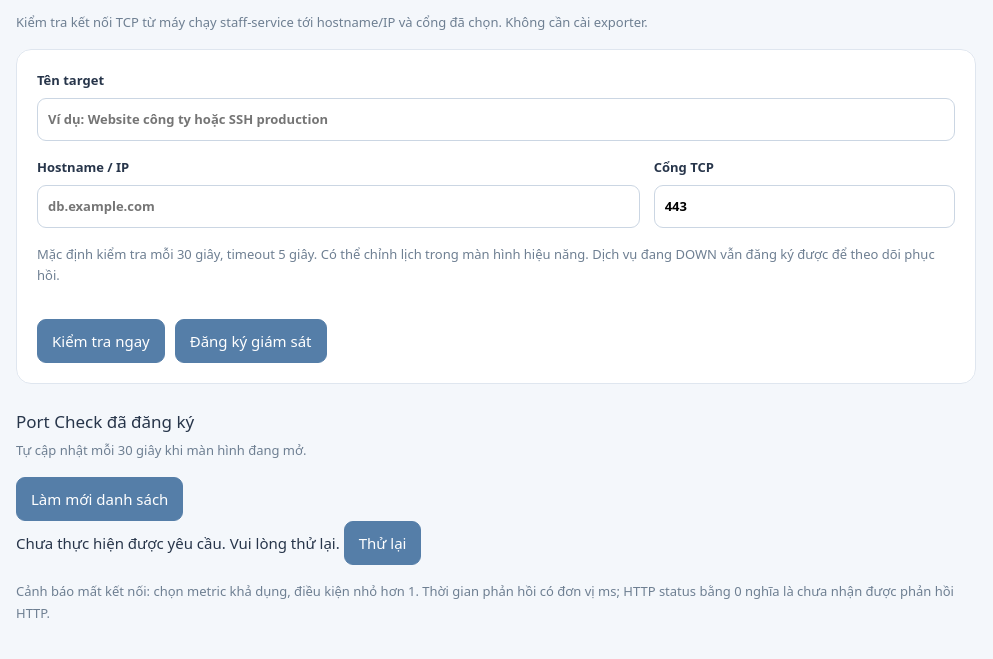
shows a recoverable list error and a permission error without a success notice
This screenshot has width=993, height=659.
Type "SSH" into the field labelled "Tên target". click: (496, 120)
box: x1=37 y1=98 x2=955 y2=141
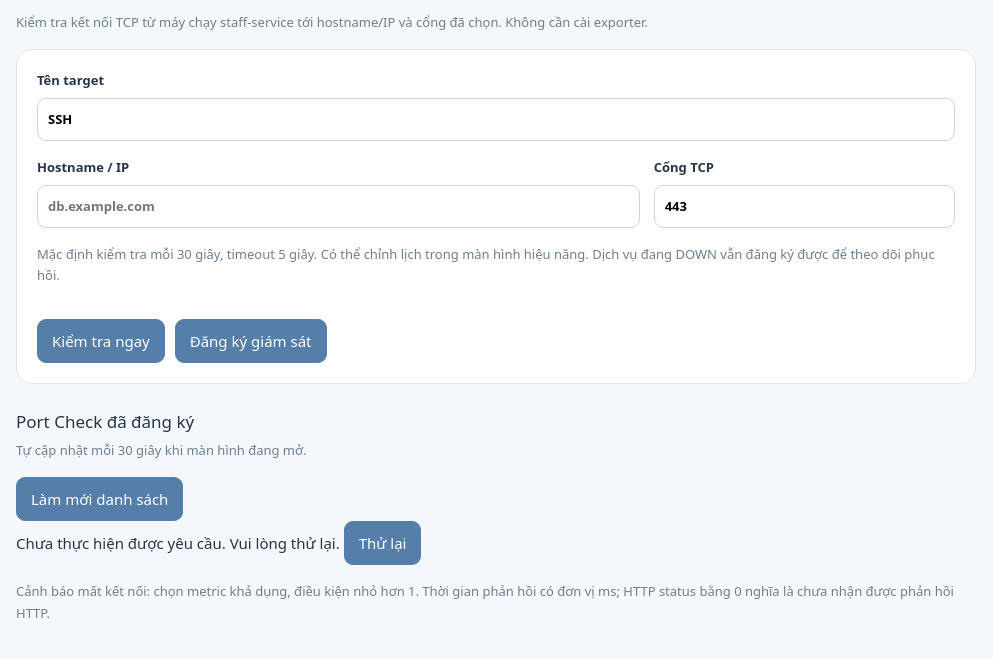
Type "localhost" into the field with id "check-host". click: (338, 206)
box: x1=37 y1=185 x2=640 y2=228
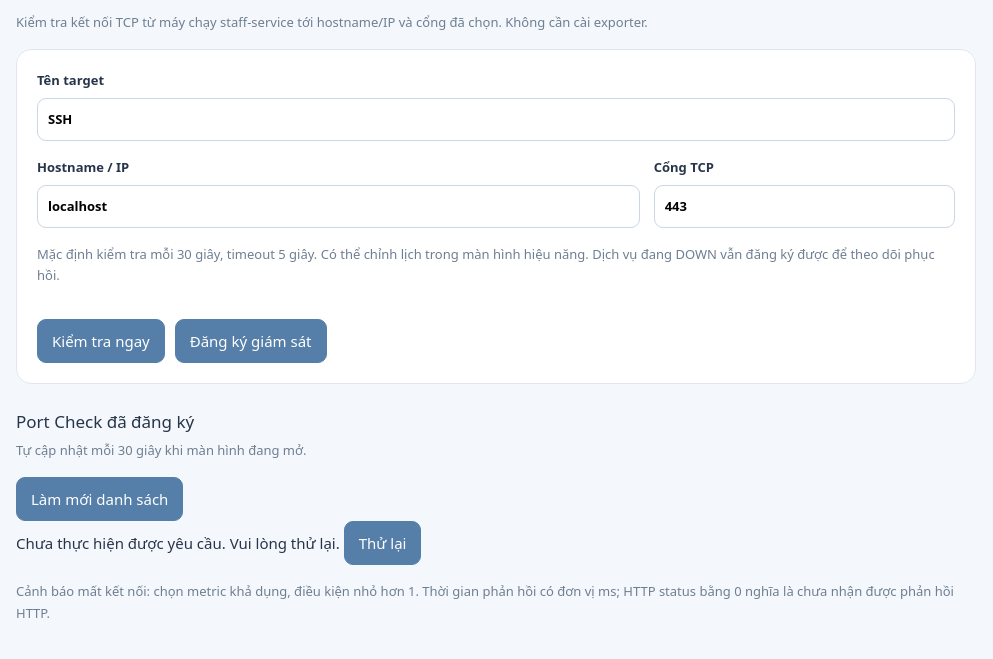
Replace the text in the number field with id "check-port" with "22". click: (804, 206)
box: x1=654 y1=185 x2=955 y2=228
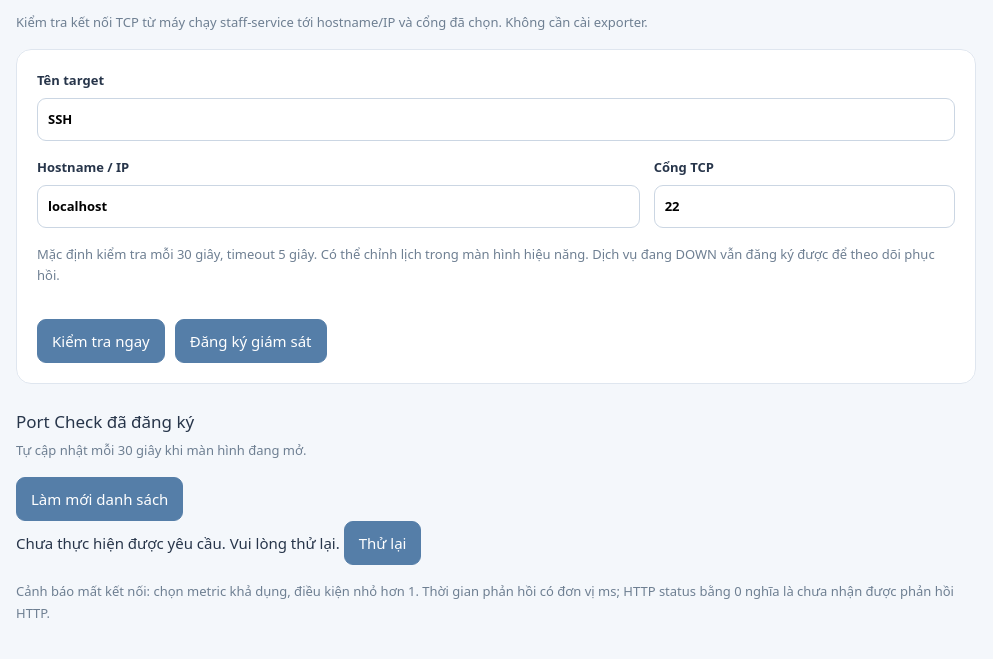
Expected: the text "Thử lại" is shown, x1=344 y1=521 x2=421 y2=565
Click the button "Đăng ký giám sát". click: (251, 340)
box: x1=175 y1=318 x2=326 y2=362
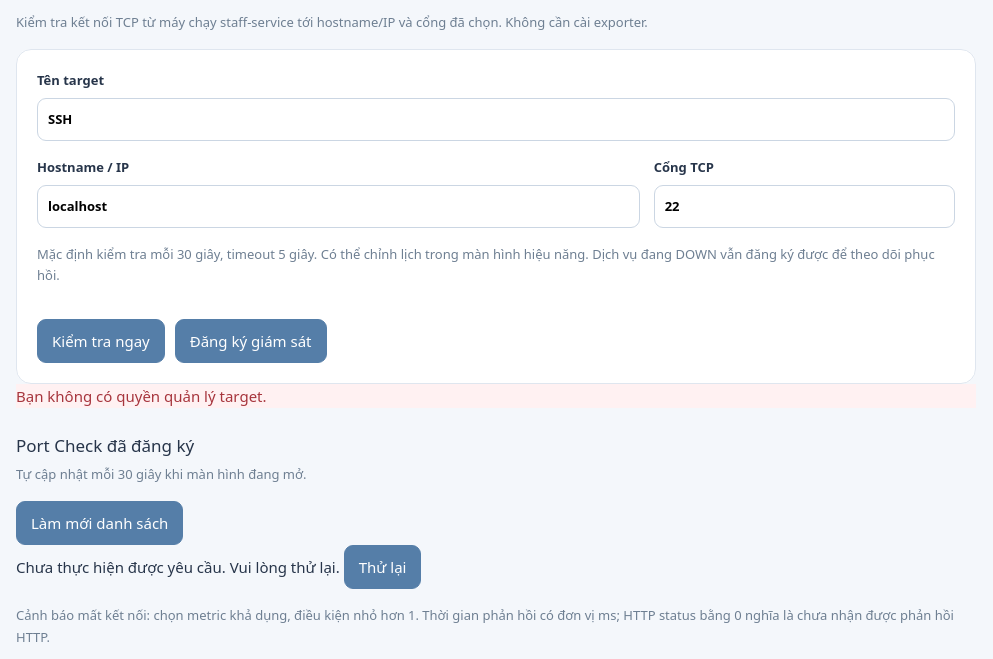
Now the text "Bạn không có quyền quản lý target." is shown, box x1=16 y1=384 x2=976 y2=408
